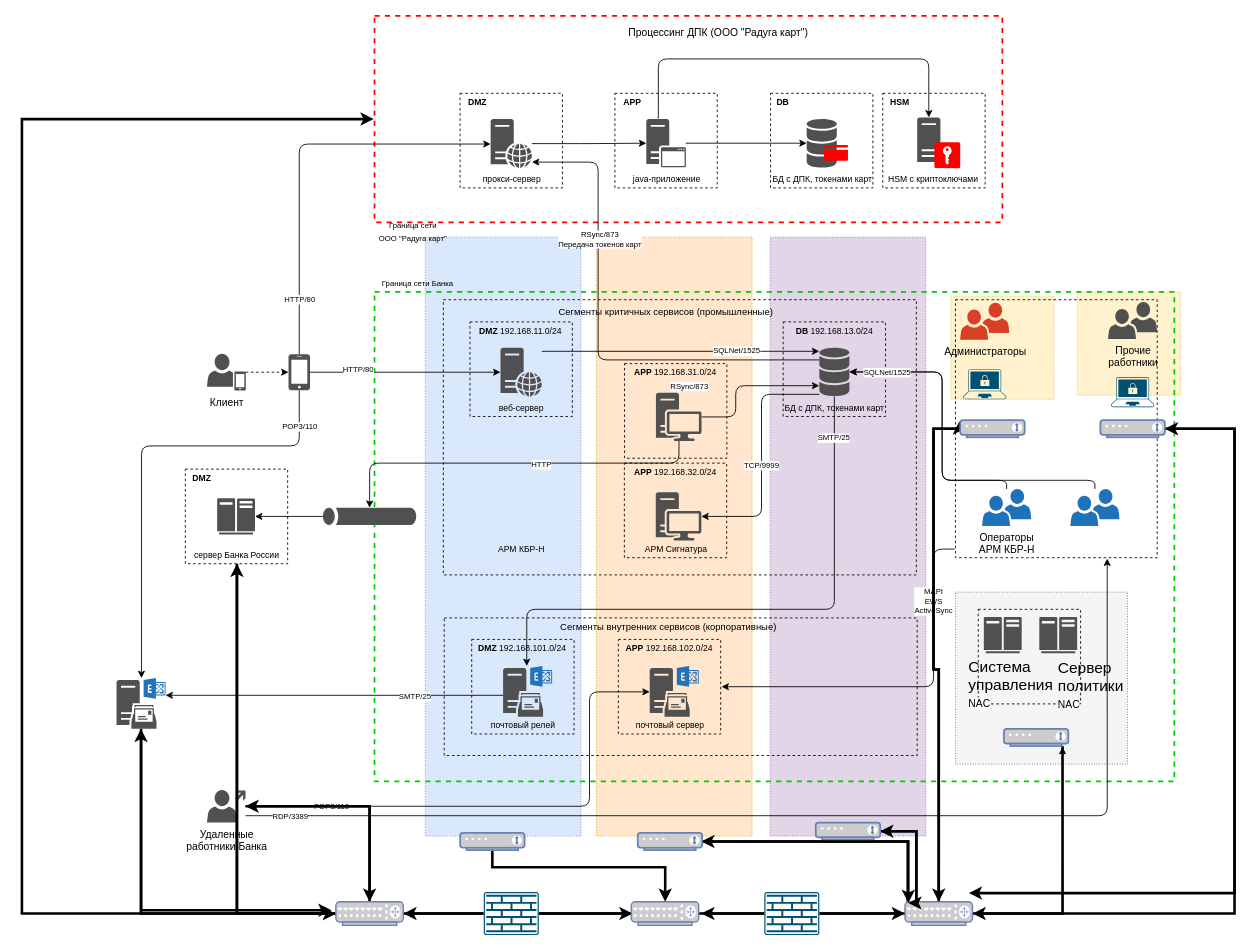
This 1257x950 diagram has some shape labels left out. The centre of each missing label's shape, as x and y in pixels:
"VPN-туннель" belongs at [369,516].
"внешний почтовый сервер" belongs at [140,703].
"Операторы АРМ Сигнатура" belongs at [1094,506].
